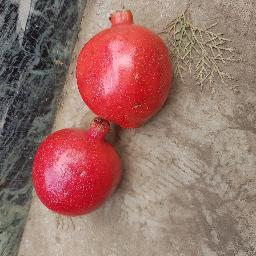Good_pomegranate: (80, 6, 174, 128), (41, 126, 120, 215)
